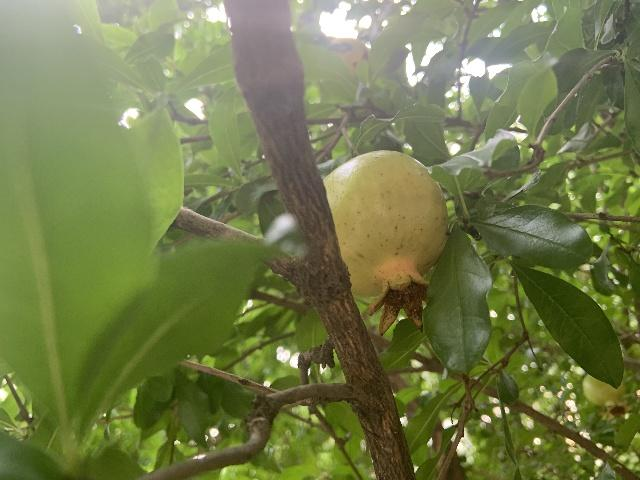mid-growth: (322, 149, 449, 334), (582, 373, 632, 420)
